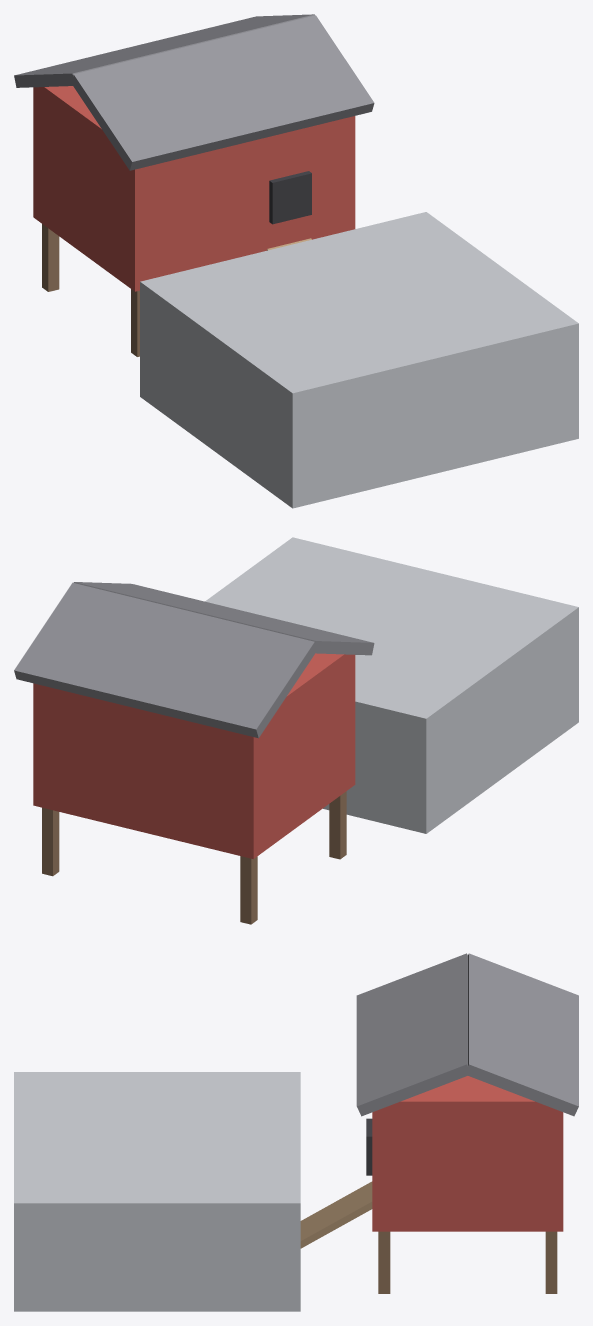
File: chicken_coop.glb
3 views of the same model, one above another, from view 1: azimuth 30°, elevation 25°; view 2: azimuth 150°, elevation 25°; view 3: azimuth 270°, elevation 25° (orthographic). The views are drawn at different scales.
Parts seen in each view (by area): view 1: chicken_coop; view 2: chicken_coop; view 3: chicken_coop.
Boxes of the visible parts, x1,y1,x2,y2 form: chicken_coop: [14, 14, 578, 508]; chicken_coop: [14, 537, 578, 924]; chicken_coop: [14, 953, 578, 1311].
Size of the model in its own units: 2.6 by 2.23 by 4.73.
